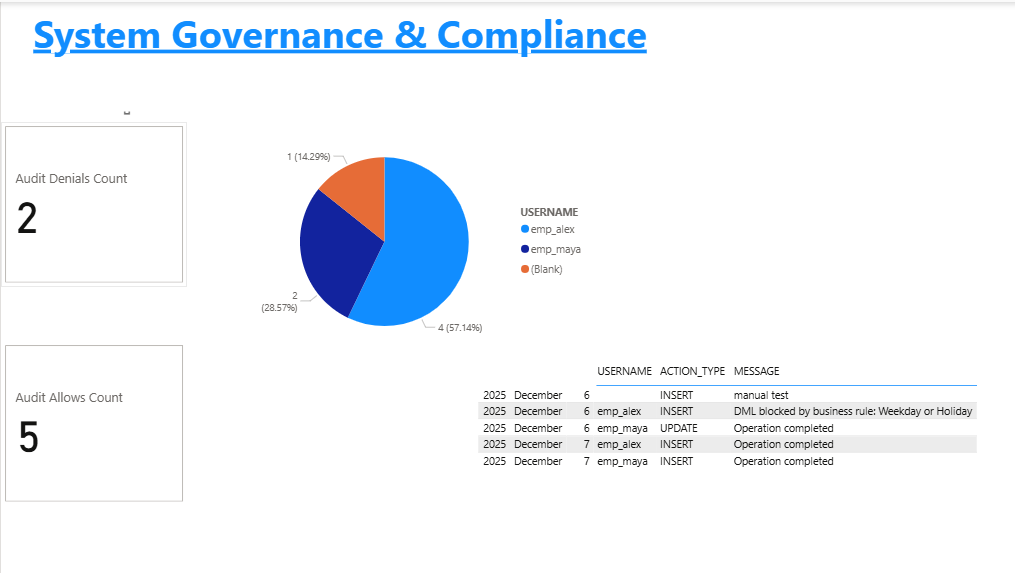

This screenshot's page, from the dashboard's own definition file:
{"tool":"powerbi","page":{"name":"Page 2","canvas":[1280,720],"ordinal":1},"visuals":[{"type":"cardVisual","fields":{"Data":["SALES.Audit Denials Count"]},"box":[0,151.2,234.3,207.9],"z":0},{"type":"tableEx","fields":{"Values":["AUDIT_LOG.ACTION_DATE.Variation.Date Hierarchy.Year","AUDIT_LOG.ACTION_DATE.Variation.Date Hierarchy.Month","AUDIT_LOG.ACTION_DATE.Variation.Date Hierarchy.Day","EMPLOYEES.USERNAME","AUDIT_LOG.ACTION_TYPE","AUDIT_LOG.MESSAGE"]},"box":[595.3,449.8,684.1,270.2],"z":1000},{"type":"pieChart","fields":{"Category":["EMPLOYEES.USERNAME"],"Y":["AUDIT_LOG.STATUS"]},"box":[306.1,94.5,444.1,395],"z":2000},{"type":"textbox","box":[0,0,854.2,138],"z":3000},{"type":"cardVisual","fields":{"Data":["SALES.Audit Allows Count"]},"box":[0,427.1,234.3,207.9],"z":4000}]}

Visuals, with their boxes in screenshot pixels (x1, y1, x2, y2), scaled from the page's 1280x720 canvas onto the 1015x573 screenshot:
cardVisual - SALES.Audit Denials Count: <region>0, 120, 186, 286</region>
tableEx - AUDIT_LOG.ACTION_DATE.Variation.Date Hierarchy.Year x AUDIT_LOG.ACTION_DATE.Variation.Date Hierarchy.Month: <region>472, 358, 1014, 572</region>
pieChart - EMPLOYEES.USERNAME x AUDIT_LOG.STATUS: <region>243, 75, 595, 390</region>
textbox: <region>0, 0, 677, 110</region>
cardVisual - SALES.Audit Allows Count: <region>0, 340, 186, 505</region>
